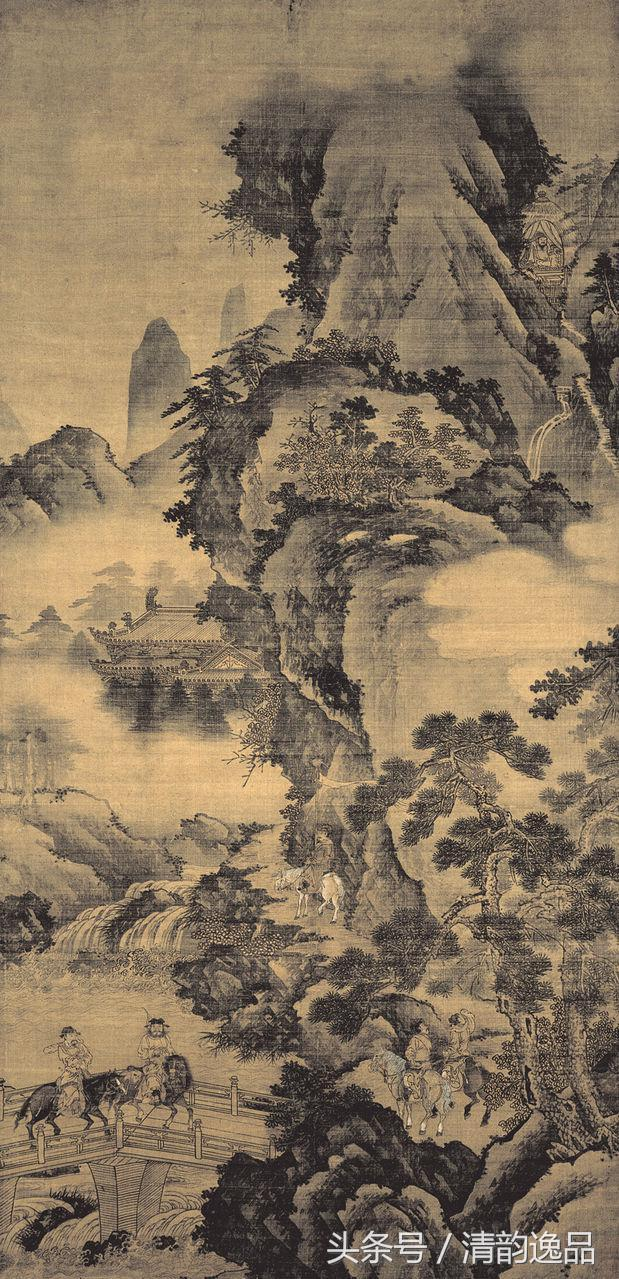bridge: (3, 1083, 295, 1231)
horse: (14, 1068, 127, 1134), (365, 1048, 449, 1127), (115, 1055, 203, 1129), (434, 1059, 502, 1129), (277, 865, 352, 920)
house: (88, 585, 278, 695), (512, 188, 586, 287)
man: (47, 1025, 102, 1110), (129, 1007, 174, 1105), (403, 1016, 436, 1109), (444, 1009, 477, 1089), (302, 817, 335, 894), (530, 231, 557, 274)
mountain: (186, 37, 585, 699), (1, 417, 132, 565), (119, 287, 204, 497)
river: (6, 946, 285, 1090)
tree: (333, 630, 619, 1142), (283, 400, 443, 507)
waterfall: (45, 851, 233, 992), (527, 383, 581, 488)
